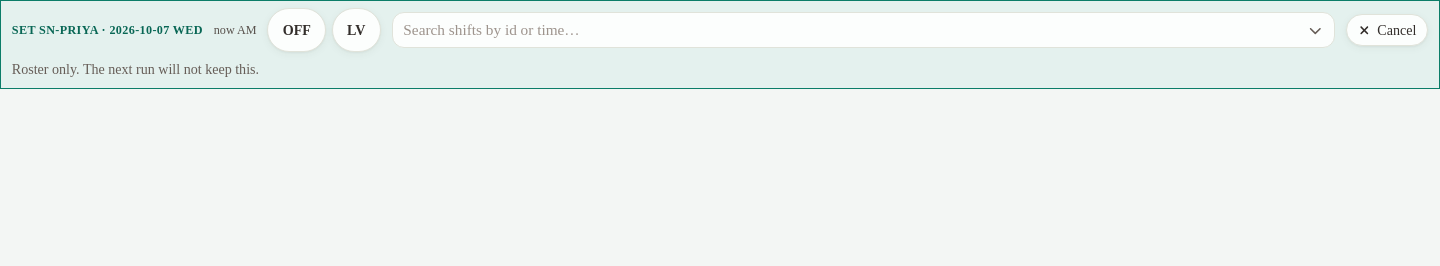
it: RosterEditBar — aria-hidden must not cover tabbable content › leaves no tabbable element inside an aria-hidden subtree once the picker is open
Click the dropdown with test id "roster-shift-picker" at (846, 30), box [392,15,1300,45]
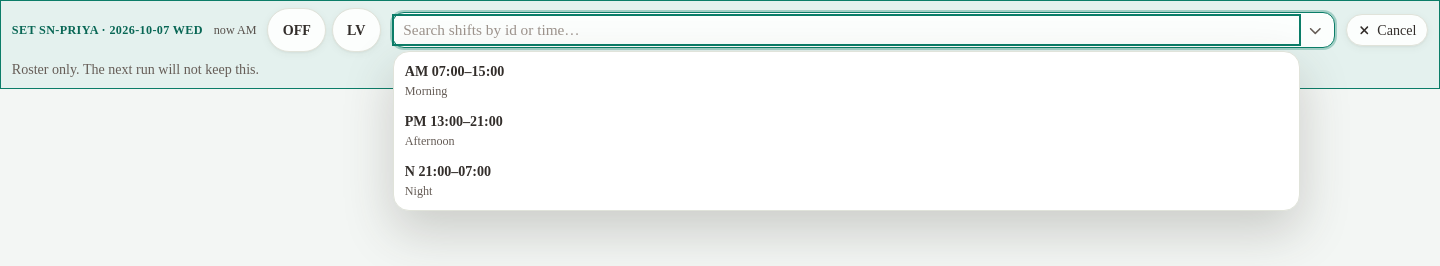
Expected: the element with test id "roster-edit-option-OFF" is shown, [267,8,381,52]
Result: the option with test id "roster-shift-option-AM" is shown at [405,63,504,98]
